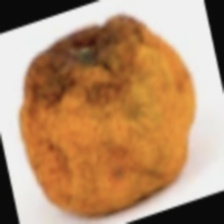orange: (52, 40, 191, 204)
